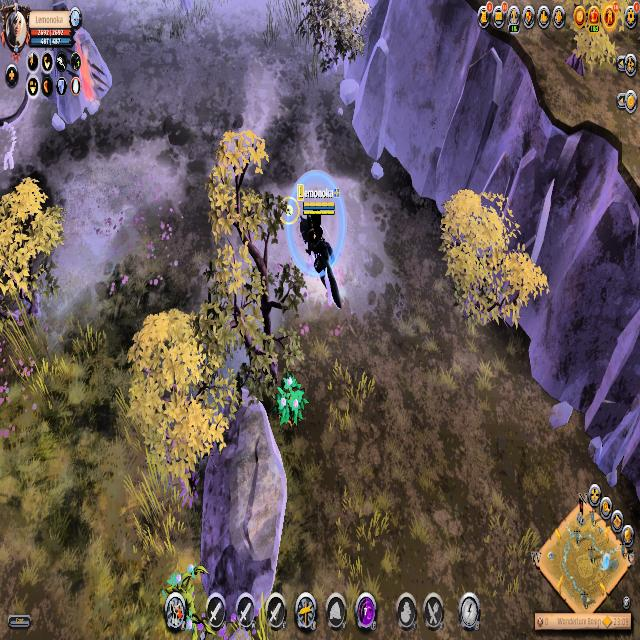fiber tier 3: (273, 368, 308, 434)
